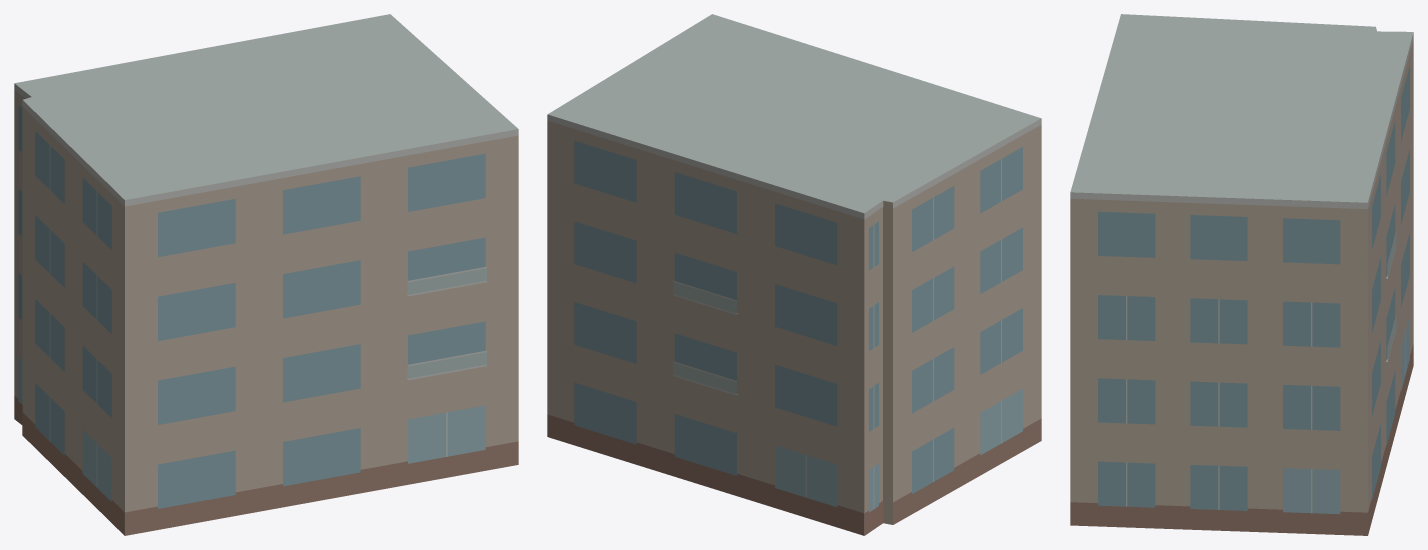
File: survey-upis-32813216.glb
The picture shows the model from 3 angles, left to right: view 1: azimuth 30°, elevation 25°; view 2: azimuth 150°, elevation 25°; view 3: azimuth 270°, elevation 25°; orthographic projection. The views are drawn at different scales.
Parts seen in each view (by area): view 1: survey-upis-32813216.tmp; view 2: survey-upis-32813216.tmp; view 3: survey-upis-32813216.tmp.
Boxes of the visible parts, box(x1,y1,x2,y2) form: survey-upis-32813216.tmp: box(14, 14, 518, 535); survey-upis-32813216.tmp: box(547, 14, 1041, 535); survey-upis-32813216.tmp: box(1070, 14, 1413, 535).
Size of the model in its own units: 15.57 by 12.8 by 11.97.
